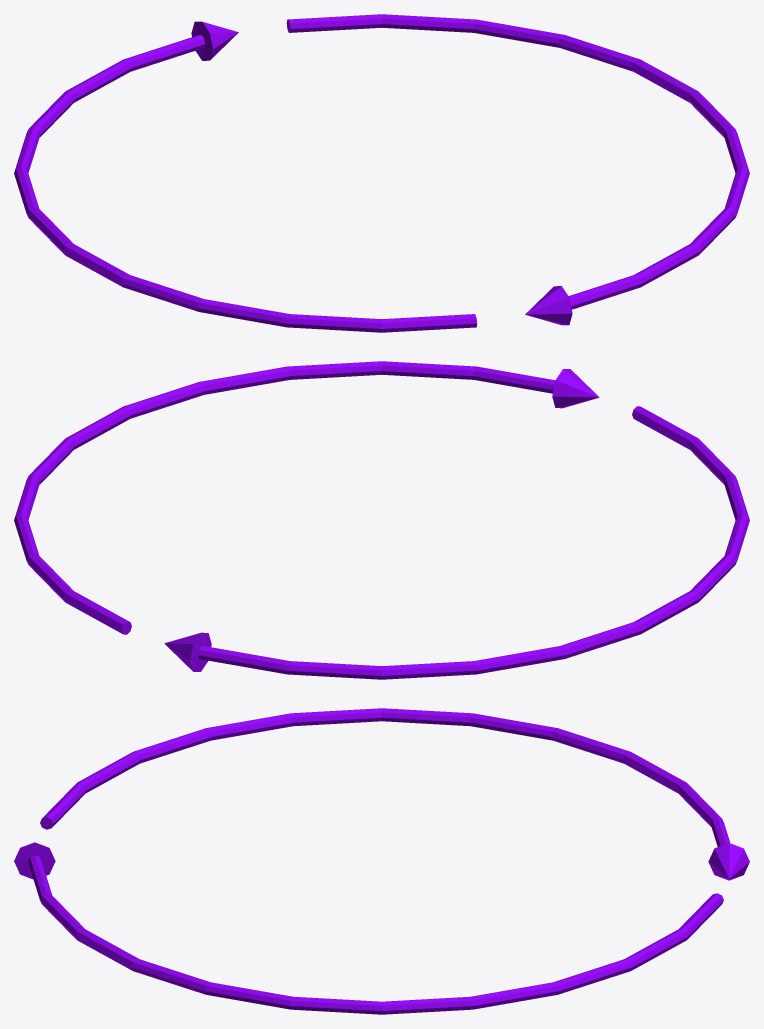
File: flecha_rotacion.fbx
The picture shows the model from 3 angles, top to bottom: view 1: azimuth 30°, elevation 25°; view 2: azimuth 150°, elevation 25°; view 3: azimuth 270°, elevation 25°; orthographic projection. The views are drawn at different scales.
Visible parts, largest first — view 1: flecha_Rotacion; view 2: flecha_Rotacion; view 3: flecha_Rotacion.
Boxes of the visible parts, x1=… form: flecha_Rotacion: x1=14, y1=14, x2=749, y2=332; flecha_Rotacion: x1=14, y1=361, x2=749, y2=679; flecha_Rotacion: x1=14, y1=708, x2=749, y2=1014.
Size of the model in its own units: 102 by 6 by 106.
